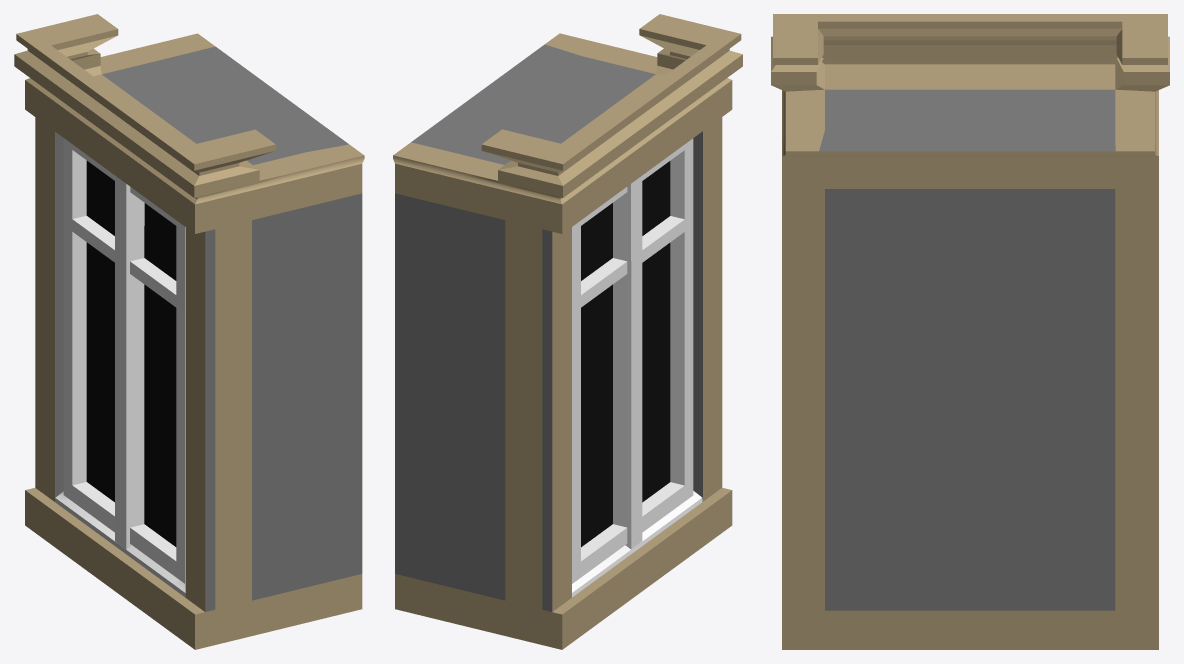
The model's file is Window2.fbx.
3 renders of one model, left to right at view 1: azimuth 30°, elevation 25°; view 2: azimuth 150°, elevation 25°; view 3: azimuth 270°, elevation 25°, orthographic. The views are drawn at different scales.
Parts seen in each view (by area): view 1: Window001; view 2: Window001; view 3: Window001.
Part boxes in pixels (x1=…): Window001: x1=14, y1=14, x2=364, y2=649; Window001: x1=393, y1=14, x2=742, y2=649; Window001: x1=771, y1=14, x2=1169, y2=649.
Size of the model in its own units: 23.62 by 62.59 by 41.66.
